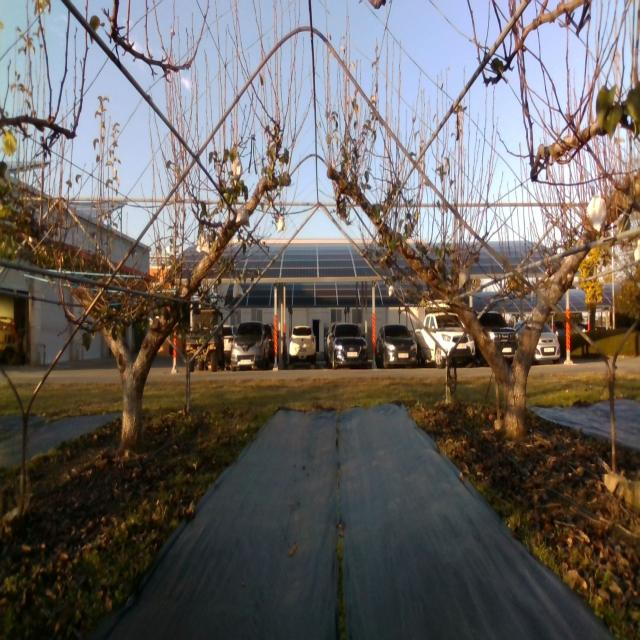pearbags: (586, 196, 606, 233), (235, 205, 250, 228), (196, 231, 210, 253), (458, 268, 471, 290), (231, 155, 243, 178)
